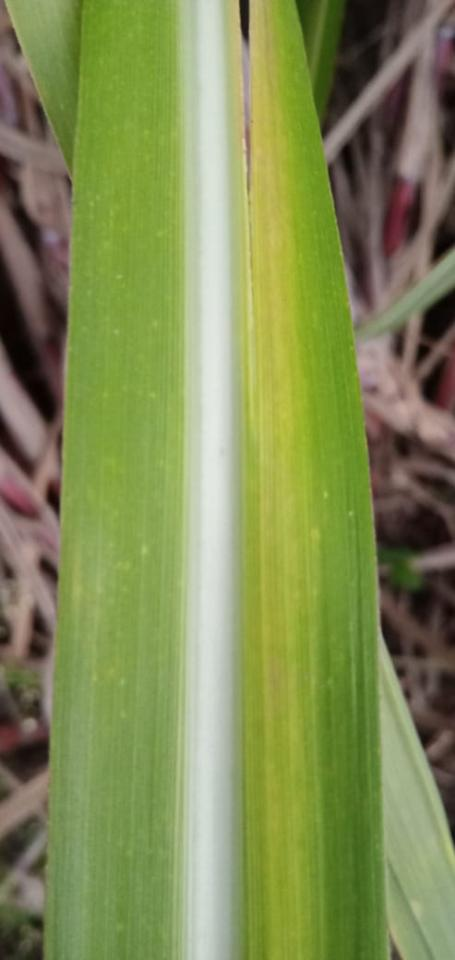Yellow: (224, 0, 301, 891)
